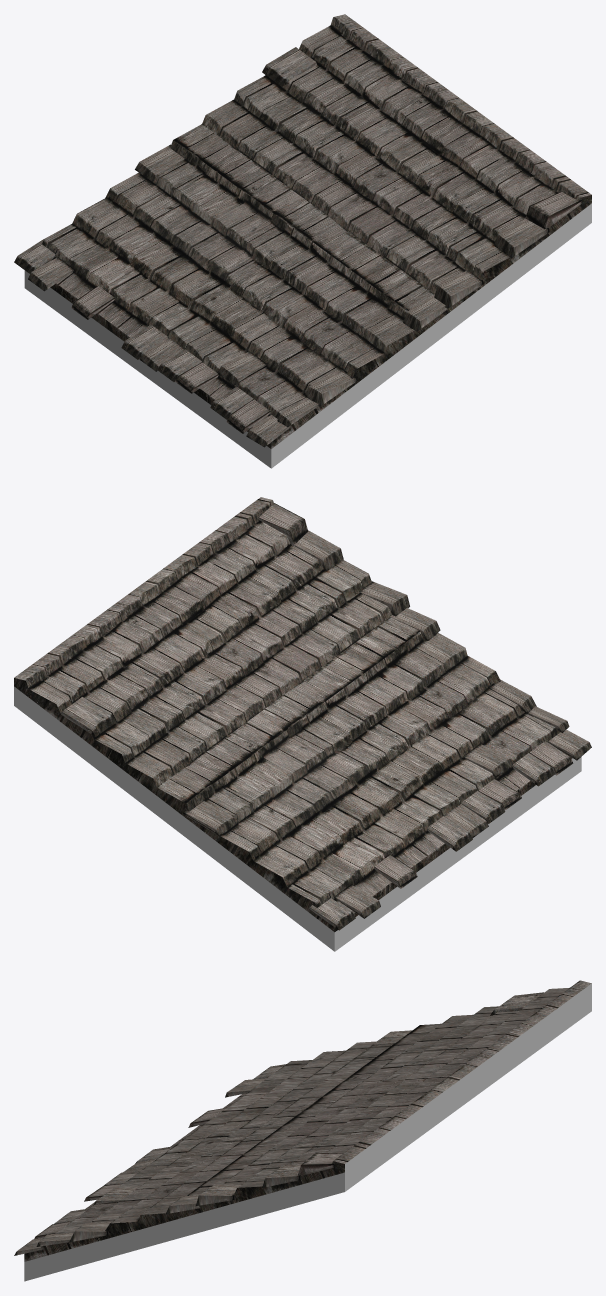
Rendered from Roof_22_5_mdl.fbx.
The picture shows the model from 3 angles, top to bottom: view 1: azimuth 30°, elevation 25°; view 2: azimuth 150°, elevation 25°; view 3: azimuth 330°, elevation 25°; orthographic projection.
Parts seen in each view (by area): view 1: Roof_22_5_mdl; view 2: Roof_22_5_mdl; view 3: Roof_22_5_mdl.
Part boxes in pixels (left/top/right/bottom): Roof_22_5_mdl: left=14, top=14, right=591, bottom=468; Roof_22_5_mdl: left=14, top=497, right=591, bottom=951; Roof_22_5_mdl: left=14, top=980, right=591, bottom=1281.
Size of the model in its own units: 312 by 175 by 409.
